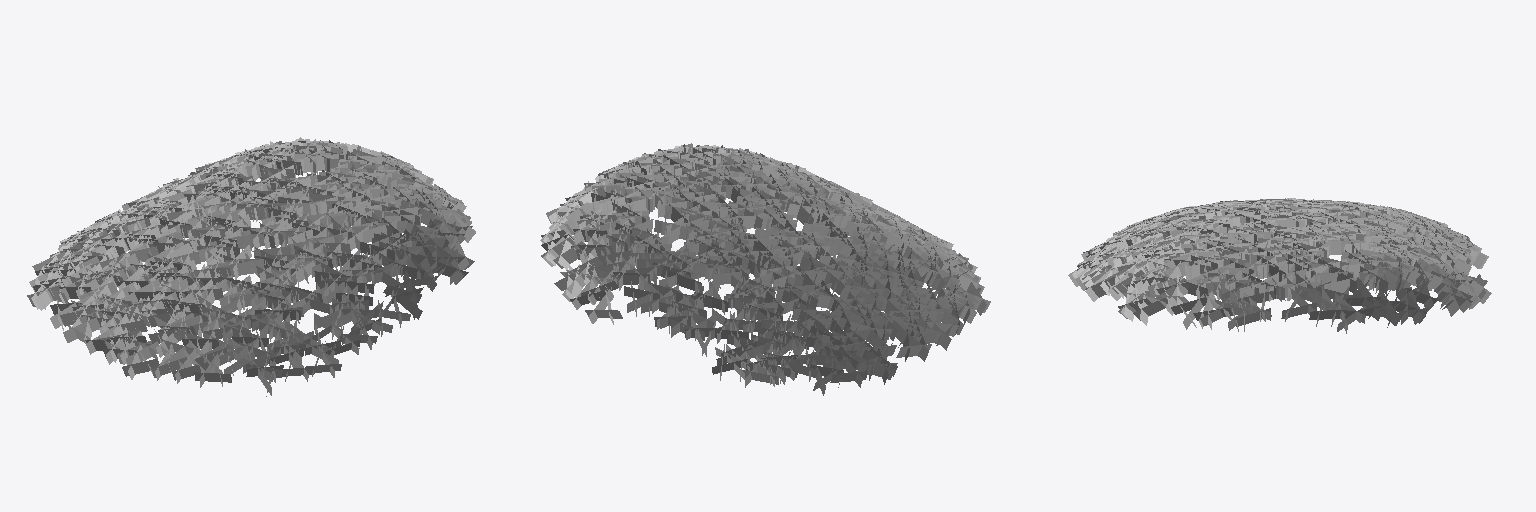
File: sm_1x_hillCliff_grass.OBJ
3 views of the same model, side by side, from view 1: azimuth 30°, elevation 25°; view 2: azimuth 150°, elevation 25°; view 3: azimuth 270°, elevation 25° (orthographic).
Parts seen in each view (by area): view 1: ZBrushPolyMesh3D; view 2: ZBrushPolyMesh3D; view 3: ZBrushPolyMesh3D.
Part boxes in pixels (x1,y1,x2,y2): ZBrushPolyMesh3D: (27,137,475,396); ZBrushPolyMesh3D: (540,143,990,395); ZBrushPolyMesh3D: (1068,198,1491,333).
Size of the model in its own units: 4.65 by 1.2 by 4.53.